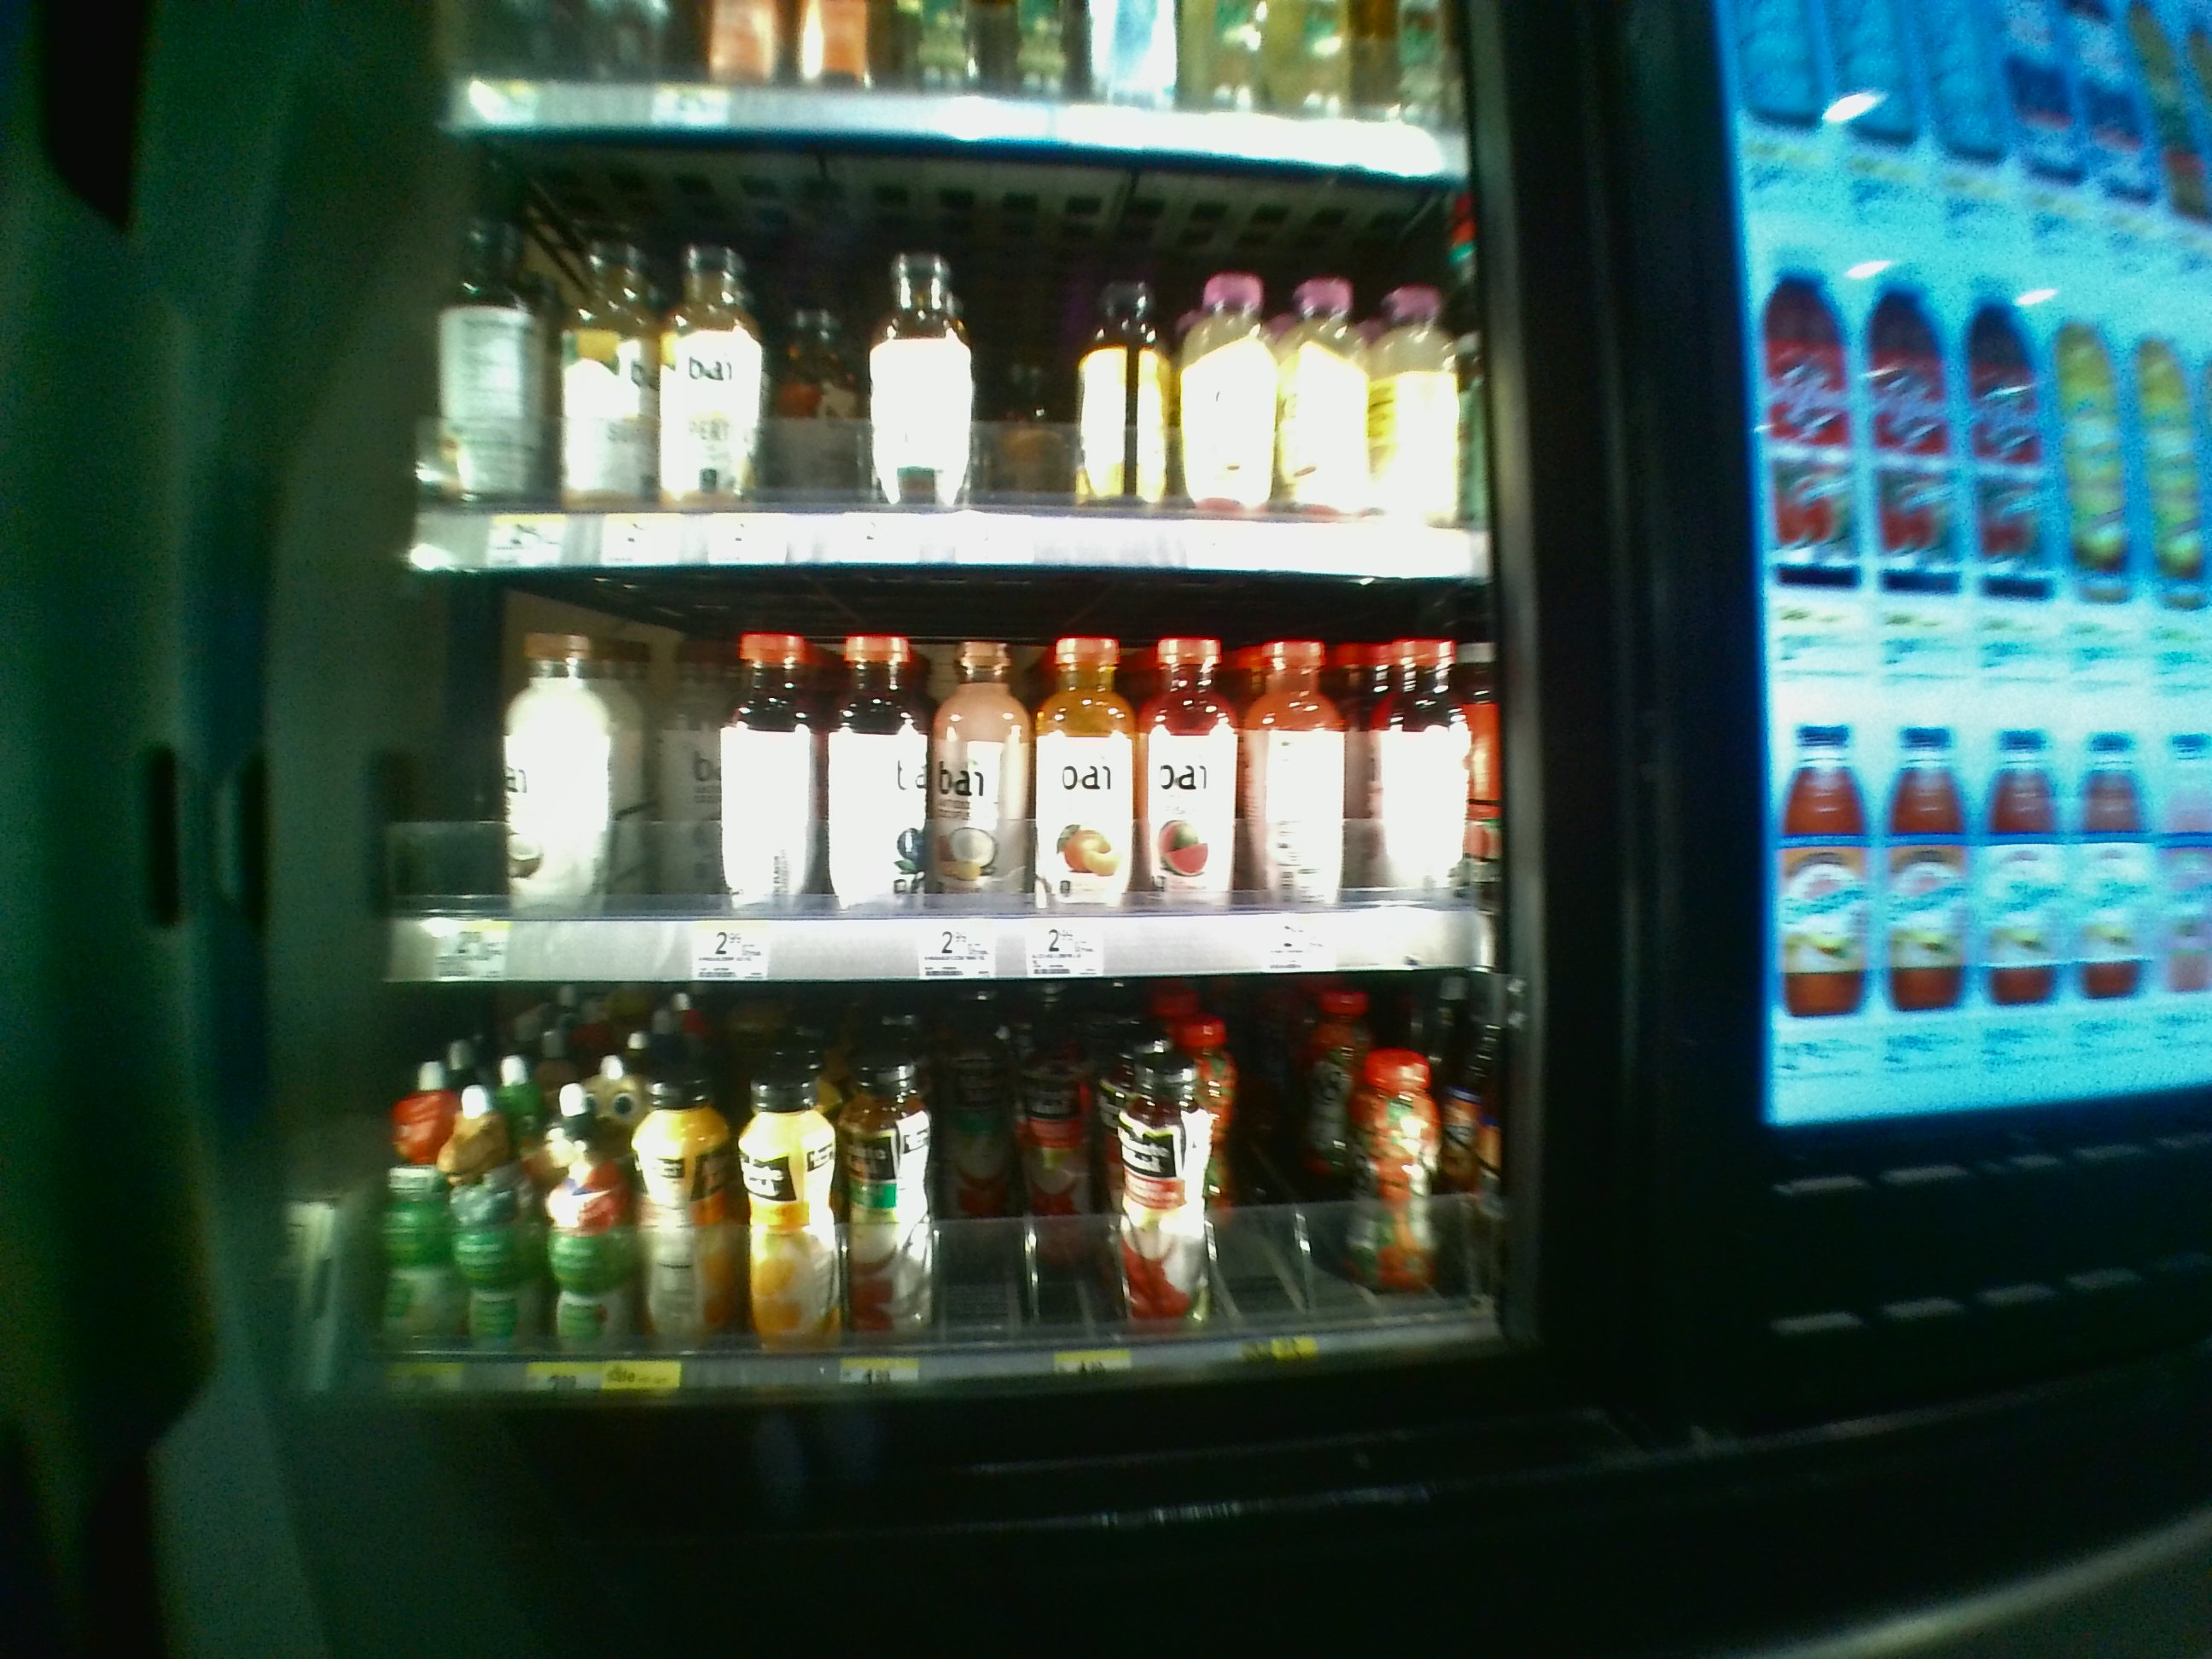shelf: (392, 131, 1496, 572), (380, 993, 1515, 1401), (383, 586, 1510, 978)
